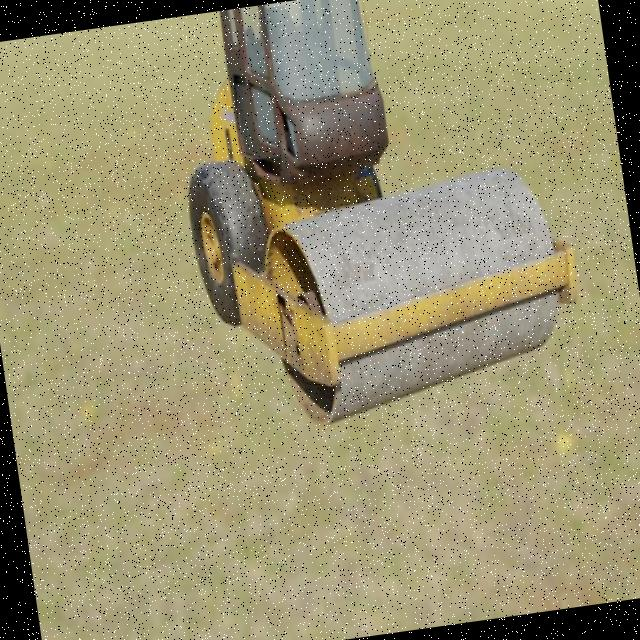Roller: (160, 0, 593, 442)
